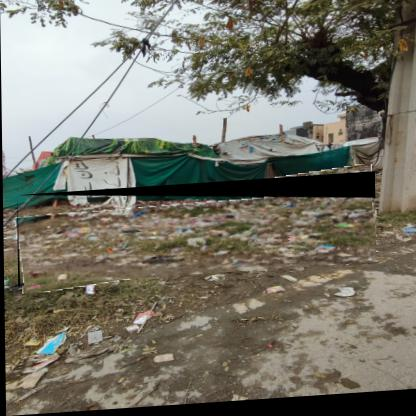Garbage: (17, 177, 378, 288)
